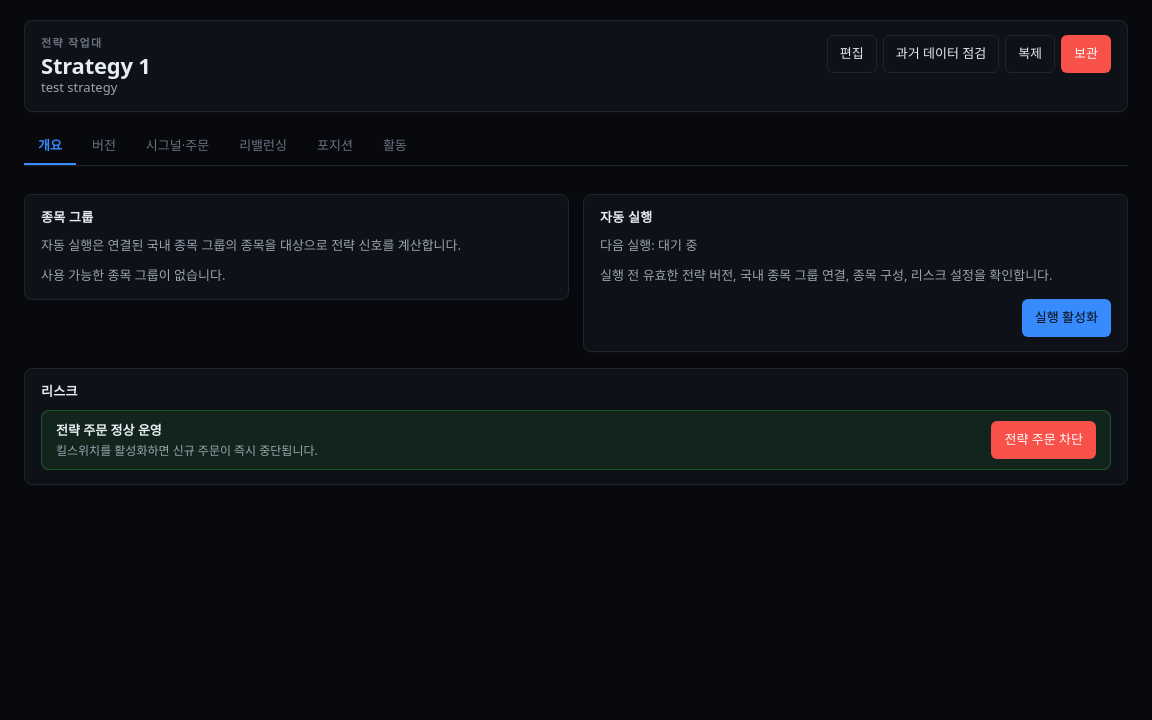
Scenario: RouteView › shows rebalance plan creation failure reason from the API
Expected: the heading "Strategy 1" is shown, [41,52,151,78]
Click the tab "리밸런싱" at coordinates (263, 146), box [225,128,301,165]
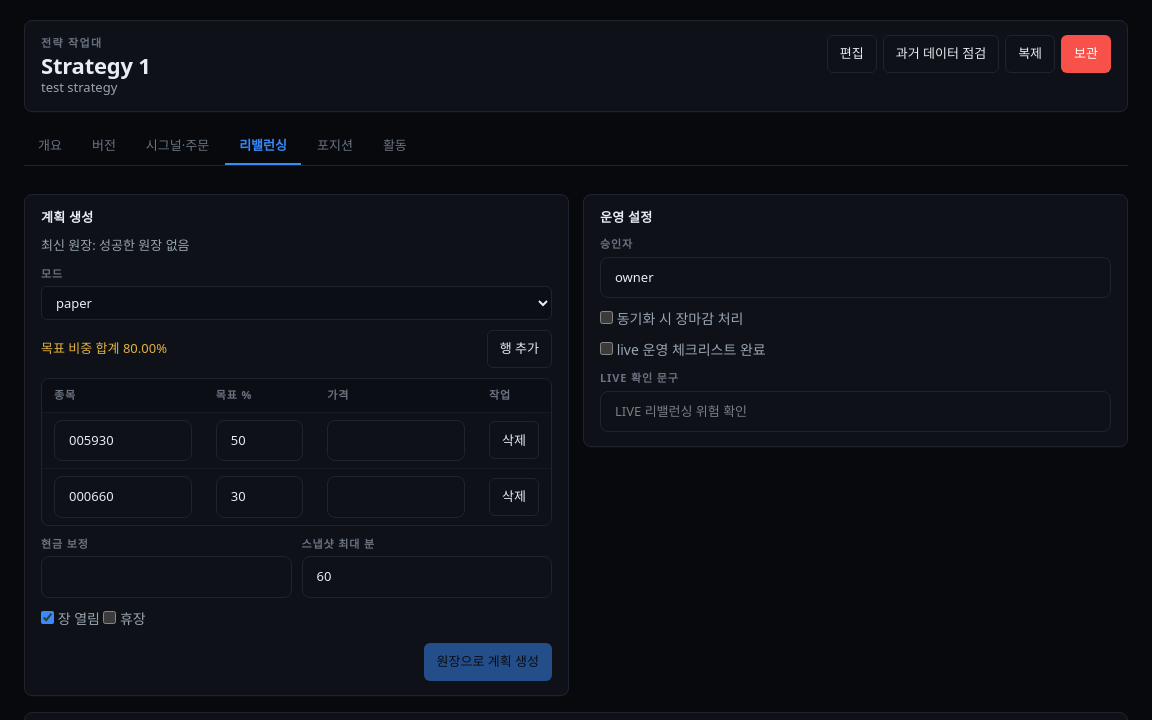
Replace the text in the 2nd number field named "목표 비중" with "50" at coordinates (260, 497), box [216,476,303,518]
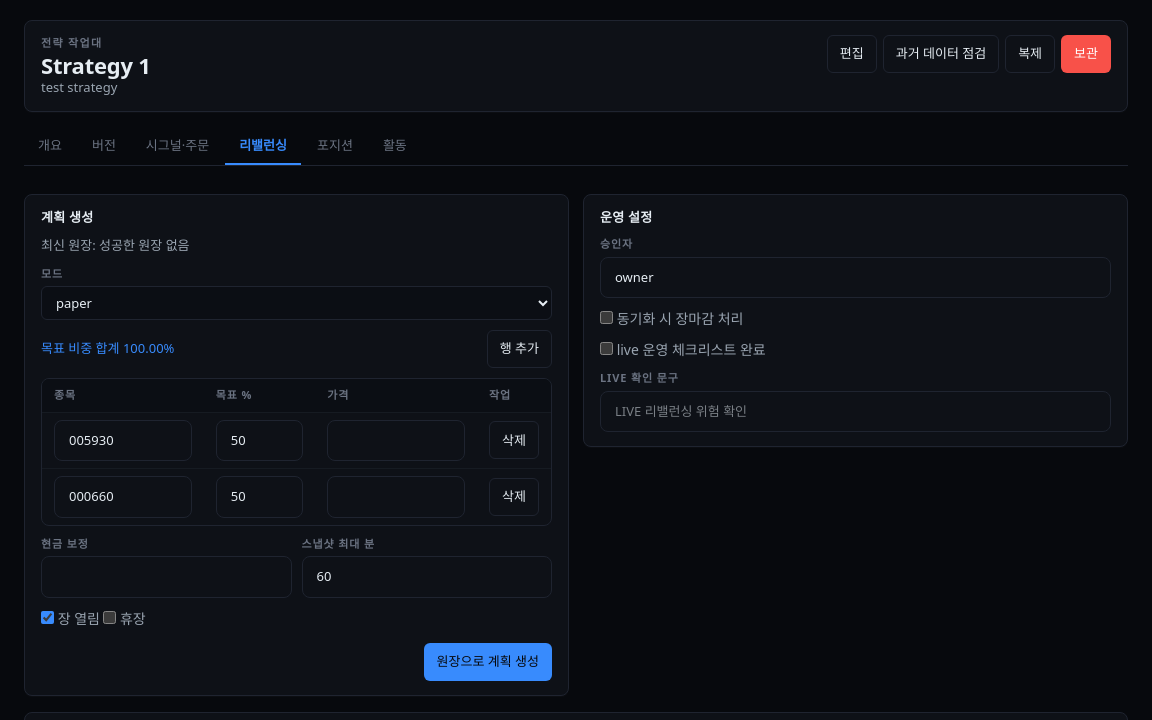
Expected: the button "원장으로 계획 생성" is enabled
Click the button "원장으로 계획 생성" at coordinates (488, 662), box [424,643,552,681]
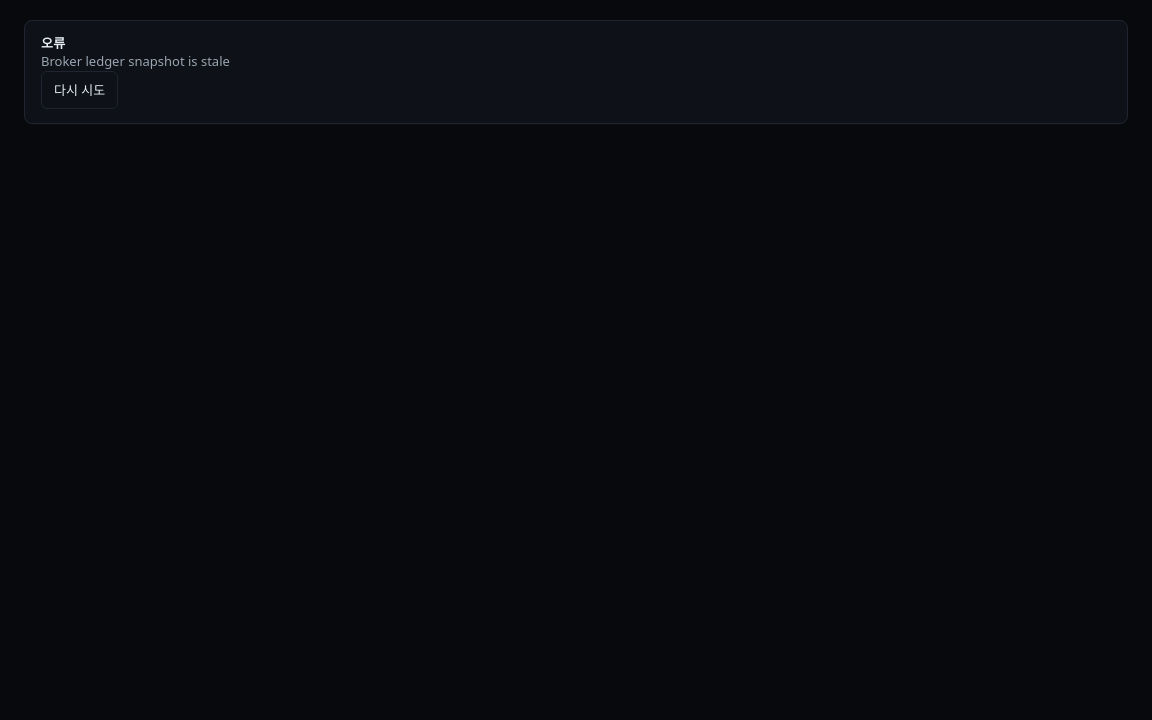
Expected: the text "Broker ledger snapshot is stale" is shown, [41,52,230,70]
